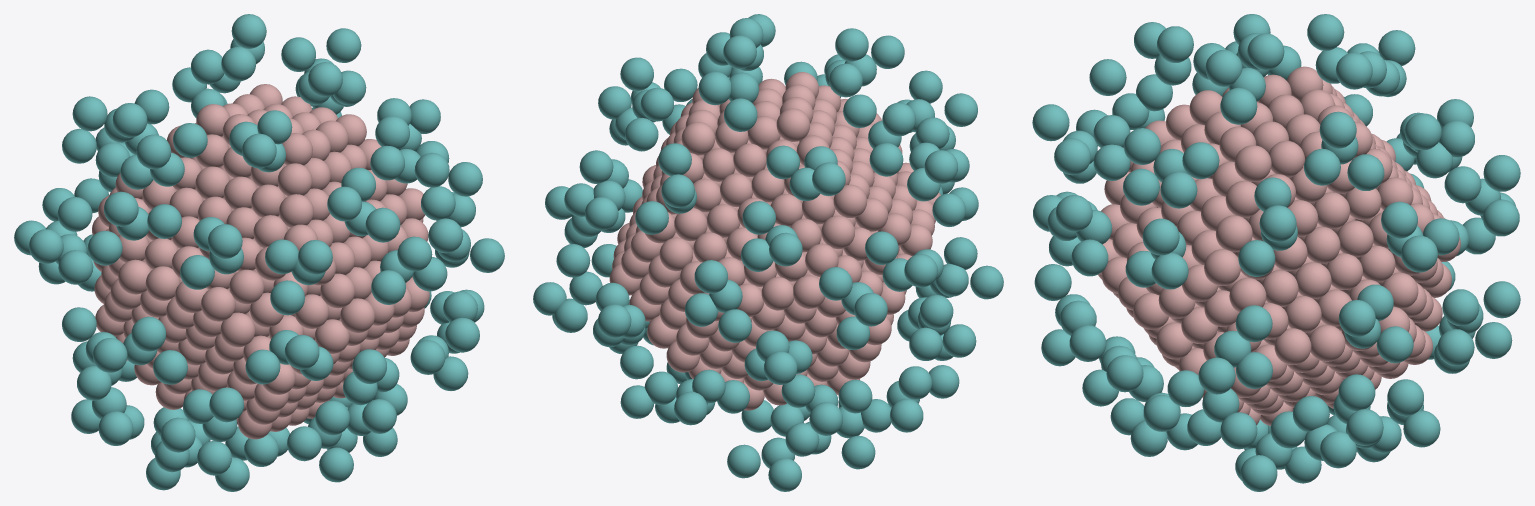
Rendered from one_citrate_capped_AuNP.glb.
3 views of the same model, side by side, from view 1: azimuth 30°, elevation 25°; view 2: azimuth 150°, elevation 25°; view 3: azimuth 270°, elevation 25° (orthographic). The views are drawn at different scales.
Visible parts, largest first — view 1: vmd_mol0_rep1; view 2: vmd_mol0_rep1; view 3: vmd_mol0_rep1.
Part boxes in pixels (box(x1,y1,x2,y2)): vmd_mol0_rep1: box(14, 14, 504, 491); vmd_mol0_rep1: box(533, 14, 1003, 491); vmd_mol0_rep1: box(1032, 14, 1520, 491).
Bounding box in the file's own units: 1.59 × 1.62 × 1.53.
